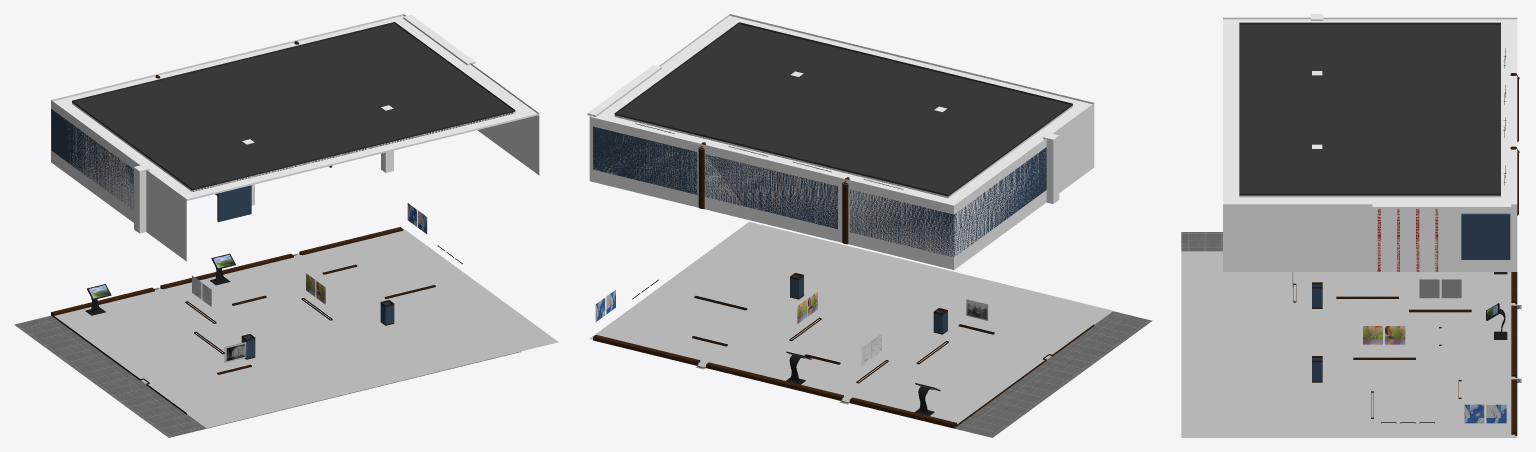
3 views of the same model, side by side, from view 1: azimuth 30°, elevation 25°; view 2: azimuth 150°, elevation 25°; view 3: azimuth 270°, elevation 25° (orthographic). The views are drawn at different scales.
Visible parts, largest first — view 1: Obj3d66_684196_2_735, Obj3d66_684196_232_919, Obj3d66_684196_19_120, Obj3d66_684196_470_209, Obj3d66_684196_2_736, Obj3d66_684196_524_428, Obj3d66_684196_472_418, Obj3d66_684196_297_877, Obj3d66_684196_471_815, Obj3d66_684196_243_80, Obj3d66_684196_379_875, Obj3d66_684196_380_263; view 2: Obj3d66_684196_2_735, Obj3d66_684196_232_919, Obj3d66_684196_286_119, Obj3d66_684196_19_120, Obj3d66_684196_470_209, Obj3d66_684196_2_736, Obj3d66_684196_4_710, Obj3d66_684196_5_465, Obj3d66_684196_6_304, Obj3d66_684196_524_428, Obj3d66_684196_471_815, Obj3d66_684196_243_80 (+3 smaller); view 3: Obj3d66_684196_2_735, Obj3d66_684196_232_919, Obj3d66_684196_472_418, Obj3d66_684196_19_120, Obj3d66_684196_3_59, Obj3d66_684196_243_80, Obj3d66_684196_2_736, Obj3d66_684196_379_875, Obj3d66_684196_365_493, Obj3d66_684196_364_234, Obj3d66_684196_359_239, Obj3d66_684196_366_582 (+3 smaller).
Boxes of the visible parts, x1=… form: Obj3d66_684196_2_735: x1=54, y1=229, x2=558, y2=428; Obj3d66_684196_232_919: x1=72, y1=22, x2=515, y2=190; Obj3d66_684196_19_120: x1=51, y1=14, x2=539, y2=200; Obj3d66_684196_470_209: x1=51, y1=100, x2=186, y2=261; Obj3d66_684196_2_736: x1=14, y1=315, x2=520, y2=437; Obj3d66_684196_524_428: x1=52, y1=109, x2=133, y2=210; Obj3d66_684196_472_418: x1=404, y1=15, x2=539, y2=175; Obj3d66_684196_297_877: x1=217, y1=185, x2=251, y2=221; Obj3d66_684196_471_815: x1=134, y1=164, x2=149, y2=233; Obj3d66_684196_243_80: x1=403, y1=15, x2=475, y2=65; Obj3d66_684196_379_875: x1=160, y1=253, x2=293, y2=289; Obj3d66_684196_380_263: x1=299, y1=227, x2=403, y2=255; Obj3d66_684196_2_735: x1=589, y1=222, x2=1113, y2=424; Obj3d66_684196_232_919: x1=614, y1=22, x2=1072, y2=196; Obj3d66_684196_286_119: x1=589, y1=117, x2=953, y2=269; Obj3d66_684196_19_120: x1=589, y1=14, x2=1093, y2=207; Obj3d66_684196_470_209: x1=954, y1=103, x2=1094, y2=269; Obj3d66_684196_2_736: x1=843, y1=311, x2=1152, y2=437; Obj3d66_684196_4_710: x1=704, y1=154, x2=837, y2=229; Obj3d66_684196_5_465: x1=593, y1=126, x2=697, y2=194; Obj3d66_684196_6_304: x1=849, y1=189, x2=954, y2=257; Obj3d66_684196_524_428: x1=955, y1=147, x2=1046, y2=255; Obj3d66_684196_471_815: x1=1043, y1=133, x2=1059, y2=203; Obj3d66_684196_243_80: x1=587, y1=65, x2=661, y2=116; Obj3d66_684196_2_735: x1=1181, y1=251, x2=1517, y2=437; Obj3d66_684196_232_919: x1=1239, y1=22, x2=1500, y2=195; Obj3d66_684196_472_418: x1=1223, y1=205, x2=1517, y2=271; Obj3d66_684196_19_120: x1=1223, y1=17, x2=1517, y2=205; Obj3d66_684196_3_59: x1=1461, y1=213, x2=1510, y2=259; Obj3d66_684196_243_80: x1=1372, y1=202, x2=1511, y2=208; Obj3d66_684196_2_736: x1=1181, y1=232, x2=1222, y2=251; Obj3d66_684196_379_875: x1=1511, y1=305, x2=1517, y2=376; Obj3d66_684196_365_493: x1=1419, y1=279, x2=1439, y2=298; Obj3d66_684196_364_234: x1=1441, y1=279, x2=1461, y2=298; Obj3d66_684196_359_239: x1=1464, y1=404, x2=1484, y2=423; Obj3d66_684196_366_582: x1=1486, y1=404, x2=1506, y2=423.
Size of the model in its own units: 23841 by 12570 by 16400.
